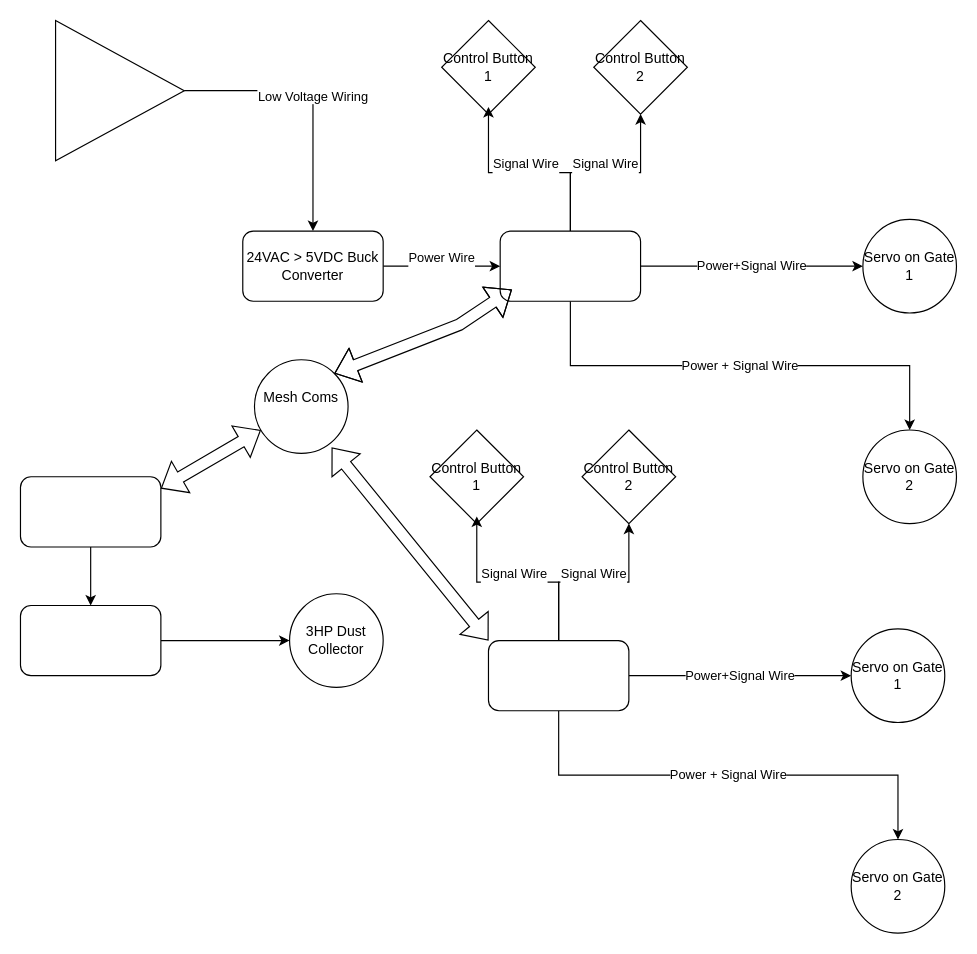
The diagram is 977 pixels wide and 954 high, and some of its shapes have lost their labels. The box of each missing label's shape, as (x1, y1, x2, y2) in pixels:
120/24VAC transformer: (54, 19, 184, 161)
24VAC coil 240V Contact Contactor: (19, 604, 161, 676)
Control Board 1: (499, 230, 641, 301)
Control Board 2: (487, 639, 629, 711)
Dust Collector Relay controller: (19, 476, 161, 547)
